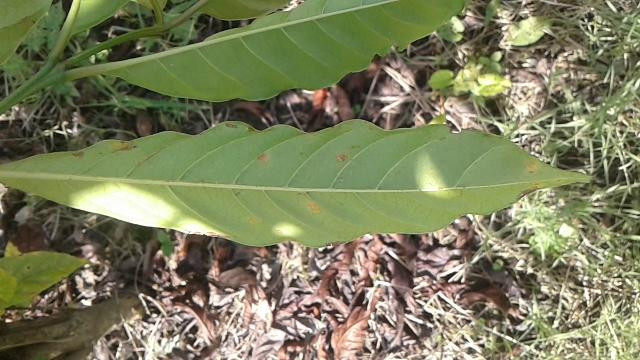rust_level_1: (0, 109, 596, 248)
